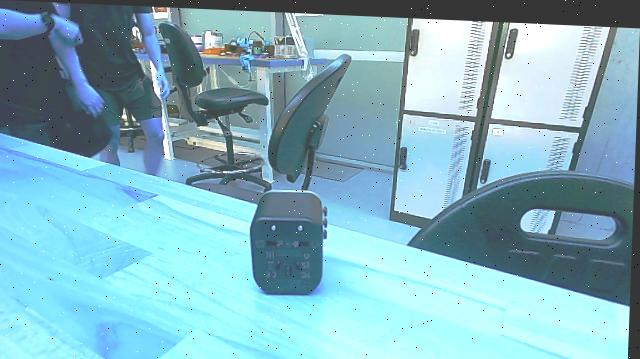adapter: (247, 182, 330, 292)
